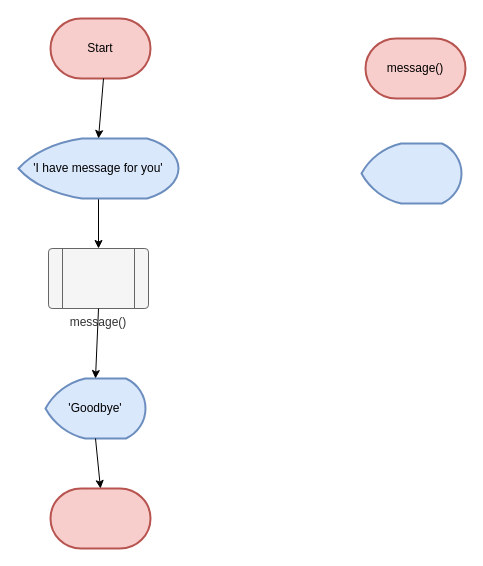
This 483x566 diagram has some shape labels left out. The shapes that lost their labels are listed below. From the top down, each one's centre as x and y in pixels, then its label:
At pixel 411 173: "'I am athapon'".
At pixel 100 518: "Stop".
